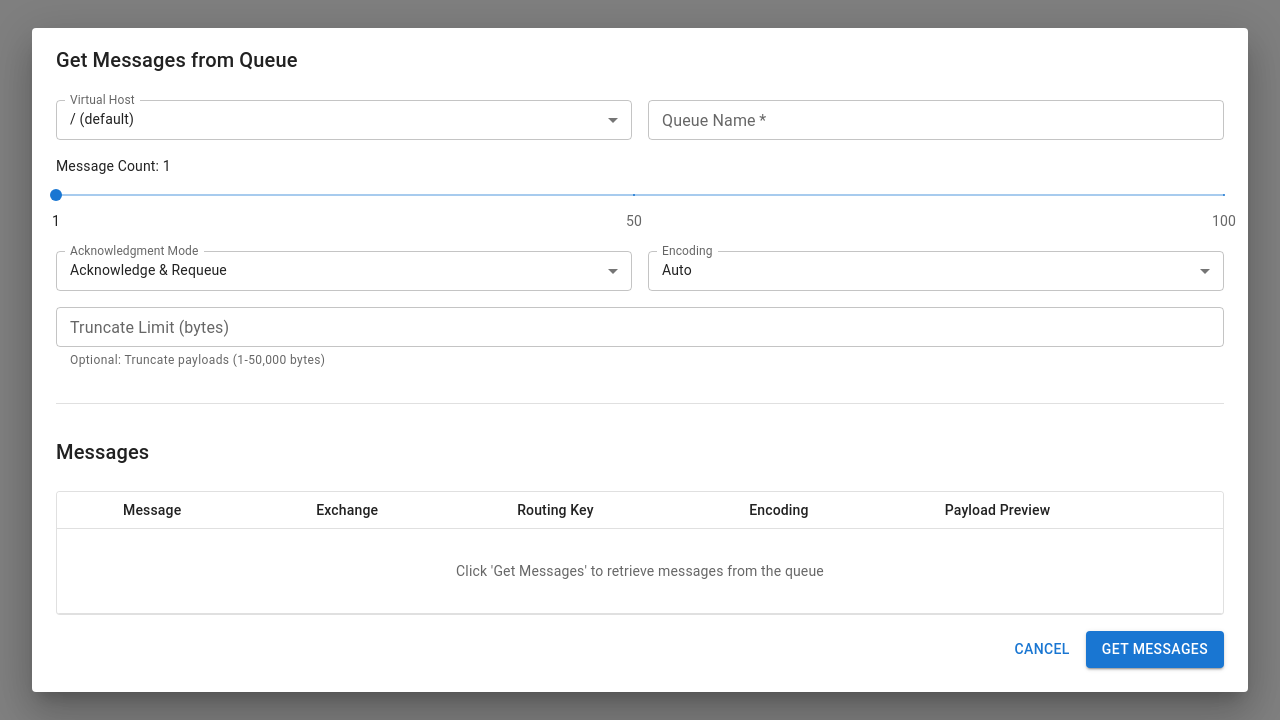
GetMessagesDialog › validates required fields
Expected: the heading "Get Messages from Queue" is shown, [56,48,298,72]
// Clear the queue name
Step 1. Clear the field labelled "Queue Name *" → (936, 120), box [648,100,1224,140]
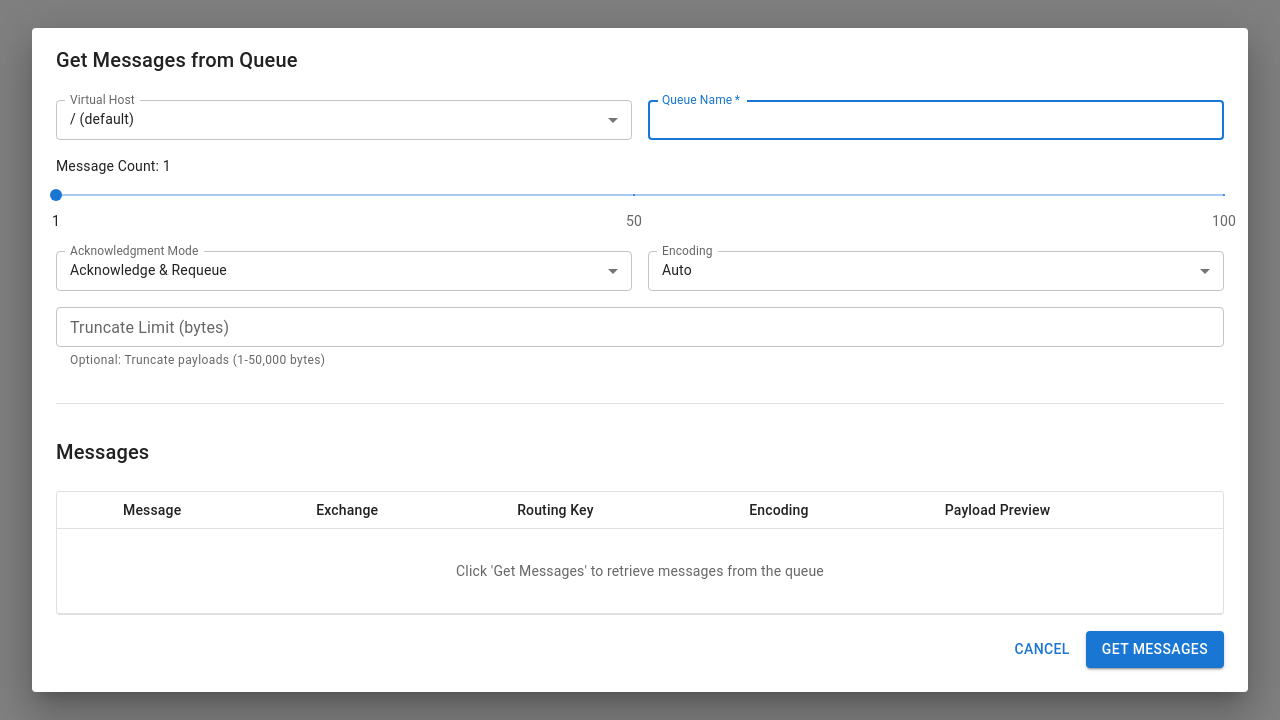
Step 2. Click the button "Get Messages" → (1155, 649), box [1086,631,1224,668]
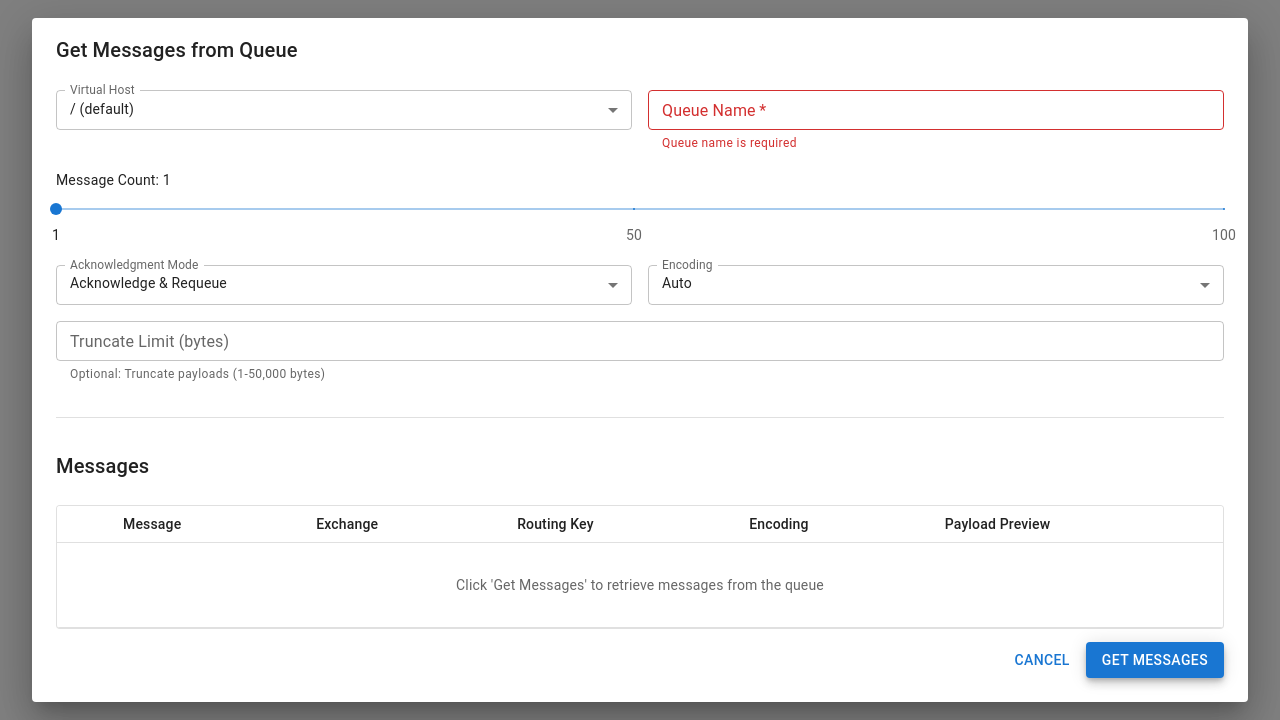
Expected: the text "Queue name is required" is shown, [662,136,797,150]
